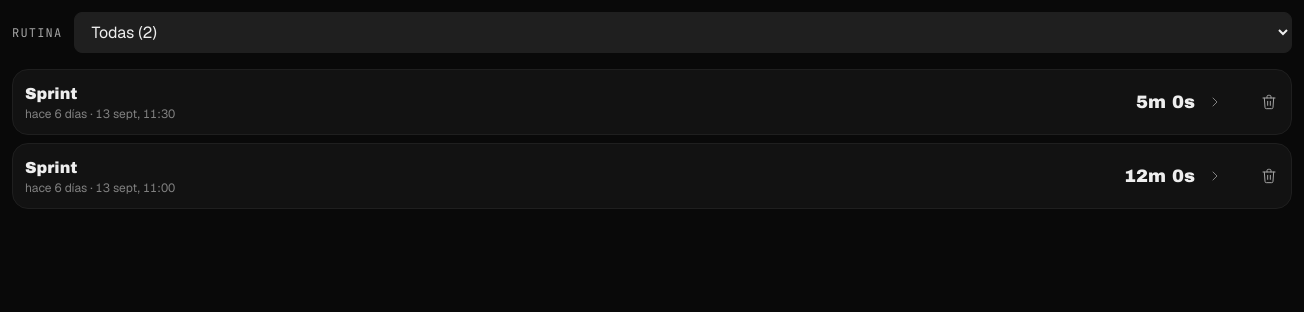
HistoryList per-workout stats › uses the fastest (min) when entries have varied durations
Select "Sprint (2)" in the dropdown named "filtrar historial por rutina" at (683, 32), box [74, 12, 1292, 53]
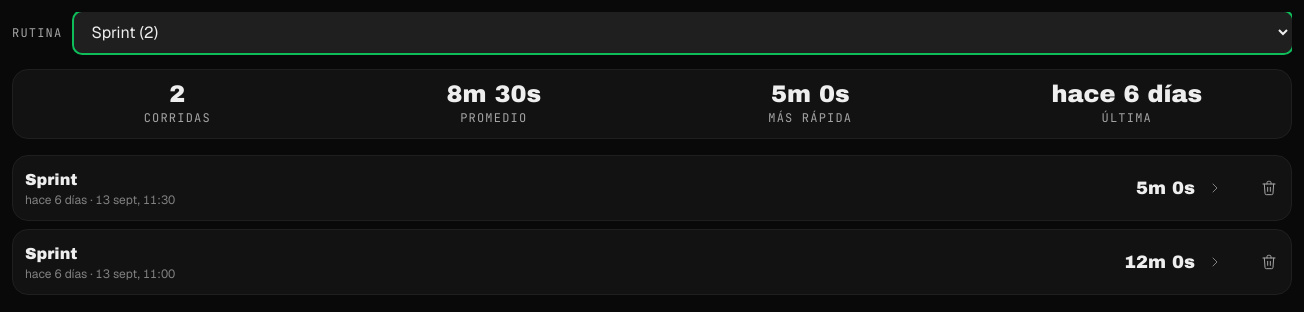
Expected: the text "5m 0s" is shown, [771, 81, 850, 107]
Expected: the text "Promedio" is shown, [460, 110, 527, 126]
